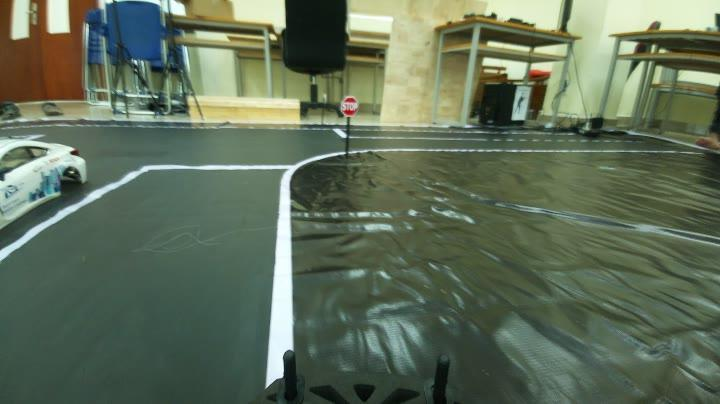stop: (334, 93, 362, 120)
